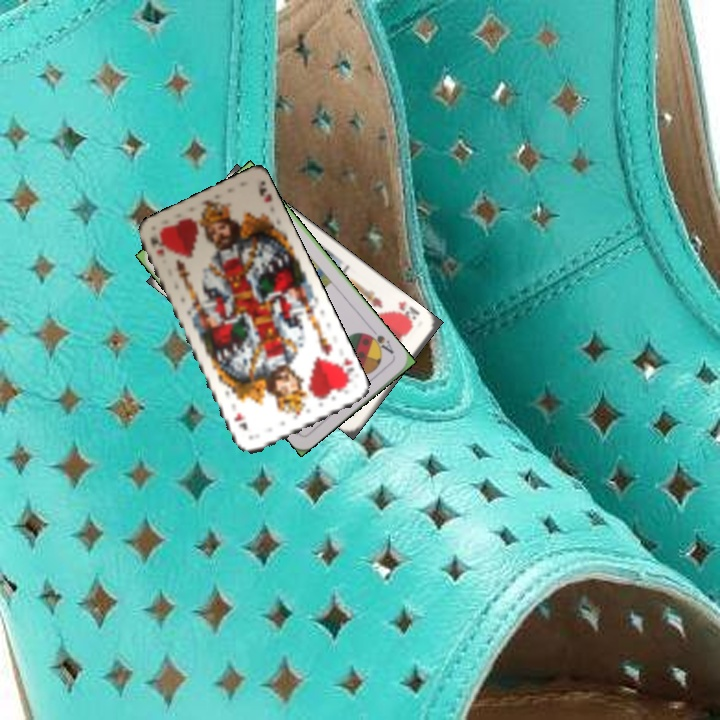HK: (389, 297, 422, 328), (333, 353, 357, 390), (146, 232, 167, 259)
SA: (362, 325, 397, 357)
